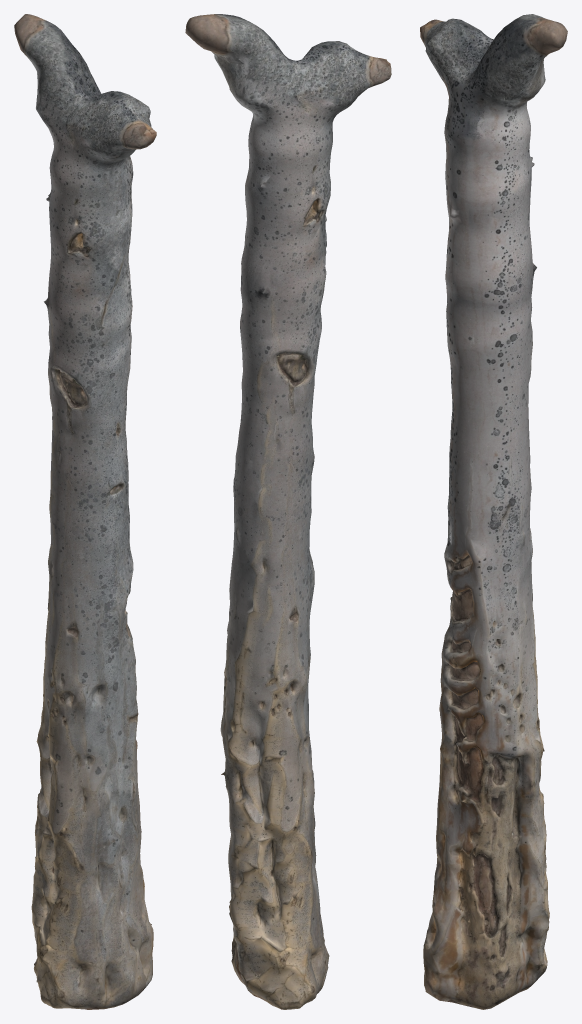
File: dead_quiver_trunk_1k.gltf
The picture shows the model from 3 angles, left to right: view 1: azimuth 90°, elevation 25°; view 2: azimuth 150°, elevation 25°; view 3: azimuth 270°, elevation 25°; orthographic projection. The views are drawn at different scales.
Visible parts, largest first — view 1: dead_quiver_trunk_LOD0; view 2: dead_quiver_trunk_LOD0; view 3: dead_quiver_trunk_LOD0.
Boxes of the visible parts, bbox=[...] form: dead_quiver_trunk_LOD0: bbox=[14, 14, 156, 1009]; dead_quiver_trunk_LOD0: bbox=[185, 14, 391, 1009]; dead_quiver_trunk_LOD0: bbox=[420, 14, 567, 1009].
Size of the model in its own units: 0.3065 by 1.99 by 0.2681.
Materials: 1 (1 with a texture image).
